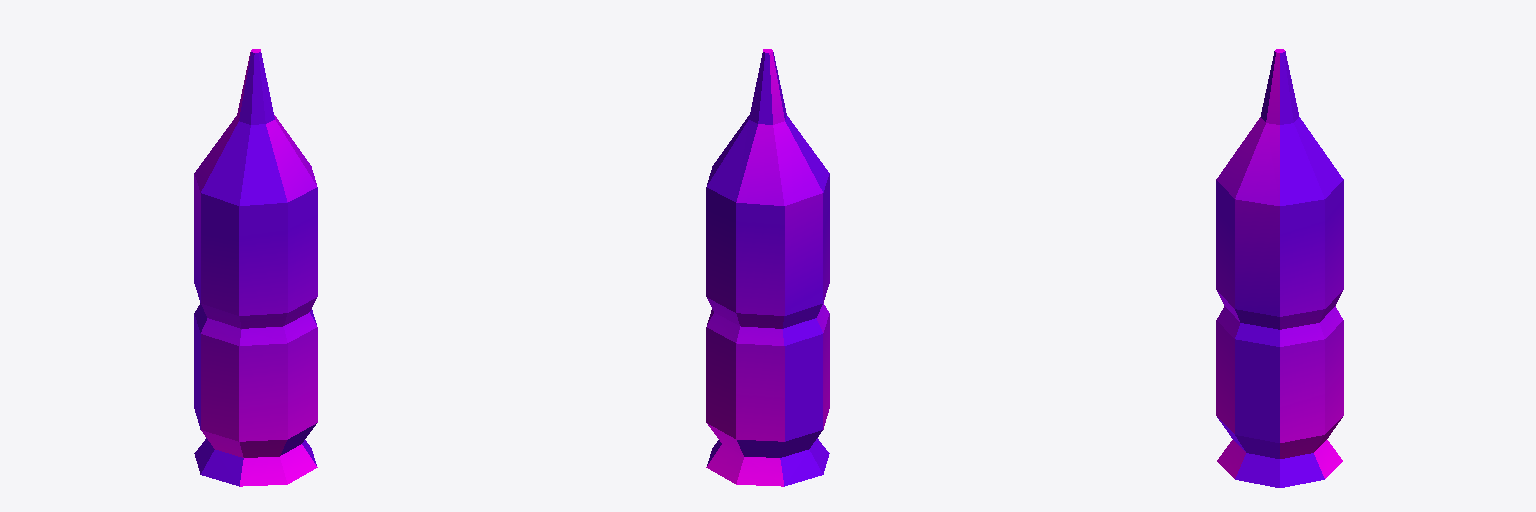
The picture shows the model from 3 angles: view 1: azimuth 30°, elevation 25°; view 2: azimuth 150°, elevation 25°; view 3: azimuth 270°, elevation 25°; orthographic projection.
Parts seen in each view (by area): view 1: 立方体; view 2: 立方体; view 3: 立方体.
Part boxes in pixels (x1,y1,x2,y2): 立方体: (194, 49, 317, 486); 立方体: (706, 49, 829, 486); 立方体: (1216, 49, 1343, 487).
Bounding box in the file's own units: 188 × 665 × 186.
1 materials, 1 textured.